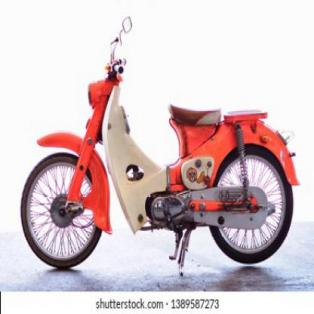Motocicleta: (18, 11, 304, 276)
